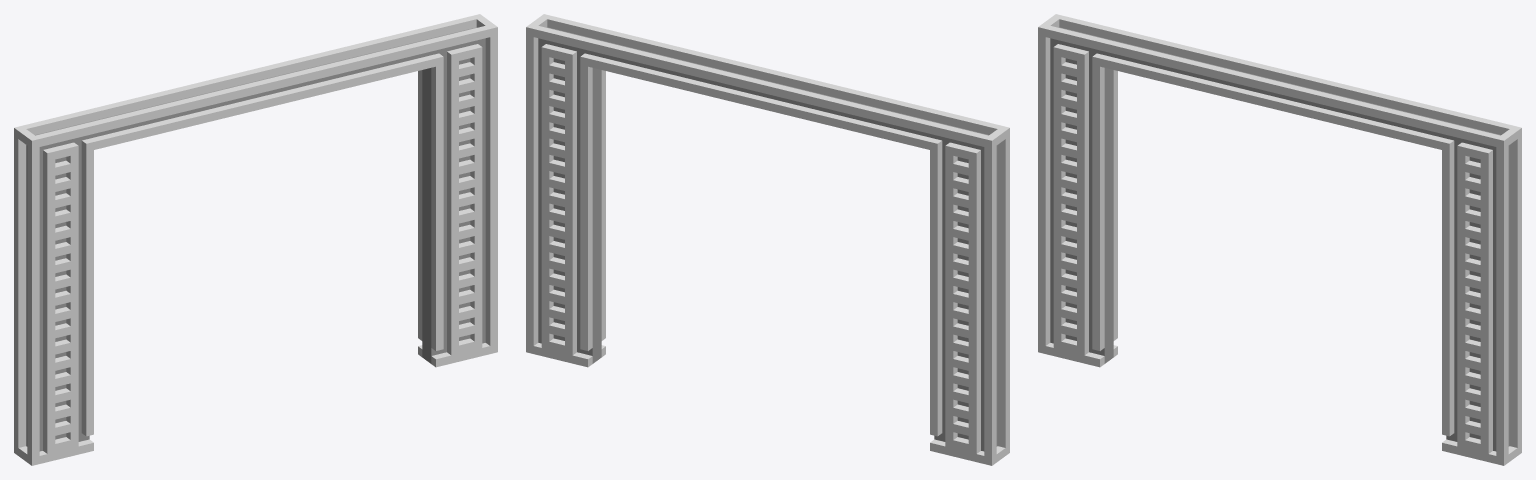
The model's file is Main Hall Hallway 2.obj.
The picture shows the model from 3 angles, left to right: view 1: azimuth 30°, elevation 25°; view 2: azimuth 150°, elevation 25°; view 3: azimuth 330°, elevation 25°; orthographic projection.
Size of the model in its own units: 60 by 40 by 4.
Materials: 1 (1 with a texture image).
